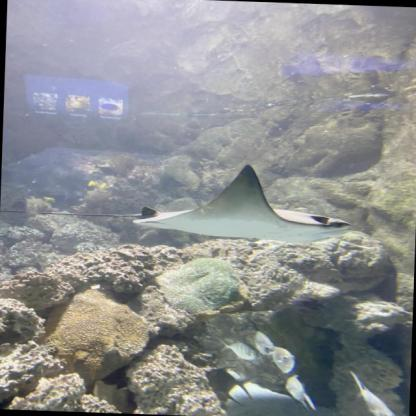fish: (348, 370, 396, 416), (286, 375, 314, 408), (221, 339, 262, 360), (272, 346, 294, 372), (254, 328, 274, 355)
stingray: (131, 158, 357, 244)
